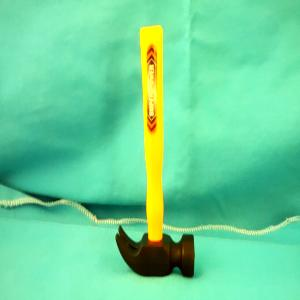martelo: (115, 26, 195, 279)
